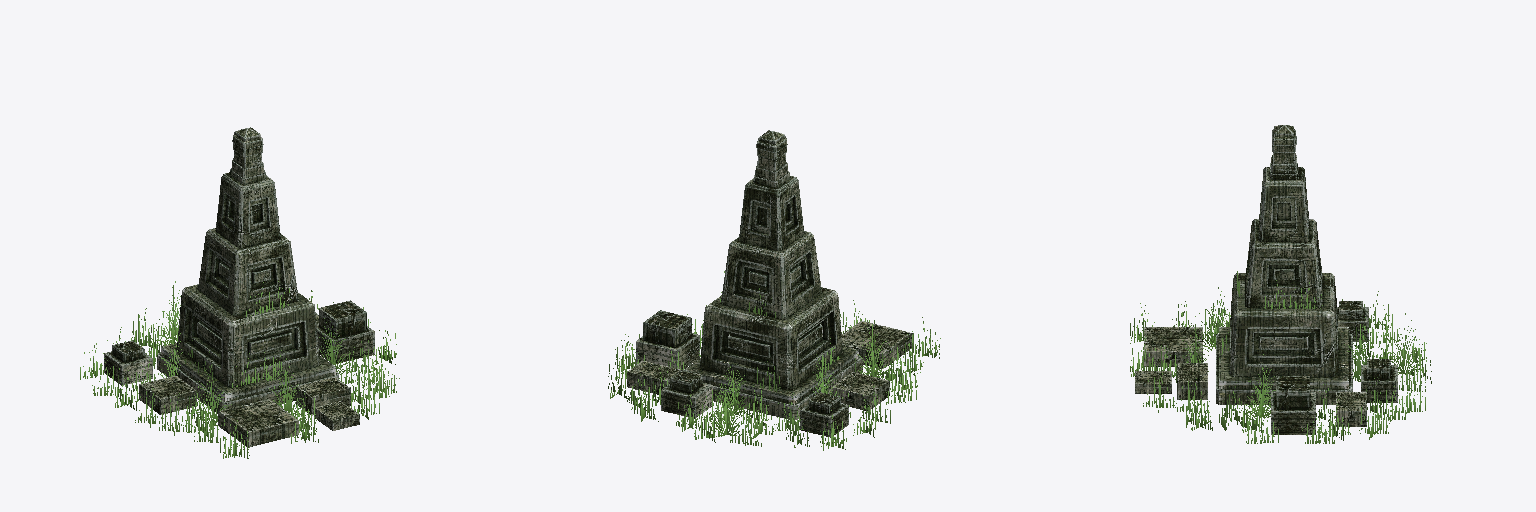
3 renders of one model, left to right at view 1: azimuth 30°, elevation 25°; view 2: azimuth 150°, elevation 25°; view 3: azimuth 270°, elevation 25°, orthographic.
Visible parts, largest first — view 1: remains1_remainsShape1.002, grass00_grass002Shape.003, remains4_remains4Shape.002, remains2_remainsShape2.003, remains3_remainsShape3.002; view 2: remains1_remainsShape1.002, remains4_remains4Shape.002, grass00_grass002Shape.003, remains2_remainsShape2.003, remains3_remainsShape3.002; view 3: remains1_remainsShape1.002, grass00_grass002Shape.003, remains4_remains4Shape.002, remains2_remainsShape2.003, remains3_remainsShape3.002.
Boxes of the visible parts, box(x1,y1,x2,y2) form: remains1_remainsShape1.002: box(157, 127, 338, 413); grass00_grass002Shape.003: box(80, 281, 399, 458); remains4_remains4Shape.002: box(139, 300, 374, 430); remains2_remainsShape2.003: box(218, 399, 298, 447); remains3_remainsShape3.002: box(104, 340, 152, 385); remains1_remainsShape1.002: box(684, 130, 862, 419); remains4_remains4Shape.002: box(627, 310, 889, 418); grass00_grass002Shape.003: box(608, 271, 940, 450); remains2_remainsShape2.003: box(842, 321, 912, 368); remains3_remainsShape3.002: box(800, 392, 848, 437); remains1_remainsShape1.002: box(1216, 125, 1352, 404); grass00_grass002Shape.003: box(1130, 271, 1431, 443); remains4_remains4Shape.002: box(1135, 359, 1397, 434); remains2_remainsShape2.003: box(1144, 327, 1202, 366); remains3_remainsShape3.002: box(1337, 301, 1368, 341).
Size of the model in its own units: 6.97 by 6.25 by 6.75.
Materials: 3 (2 with a texture image).